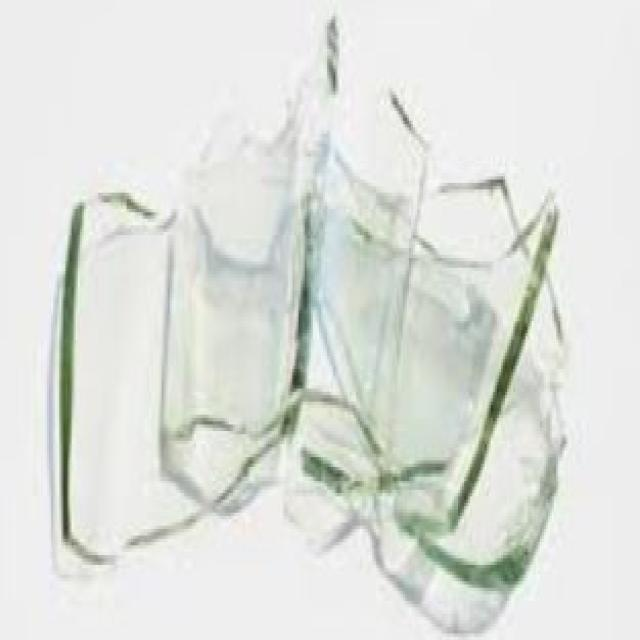electronic: (63, 43, 577, 634)
